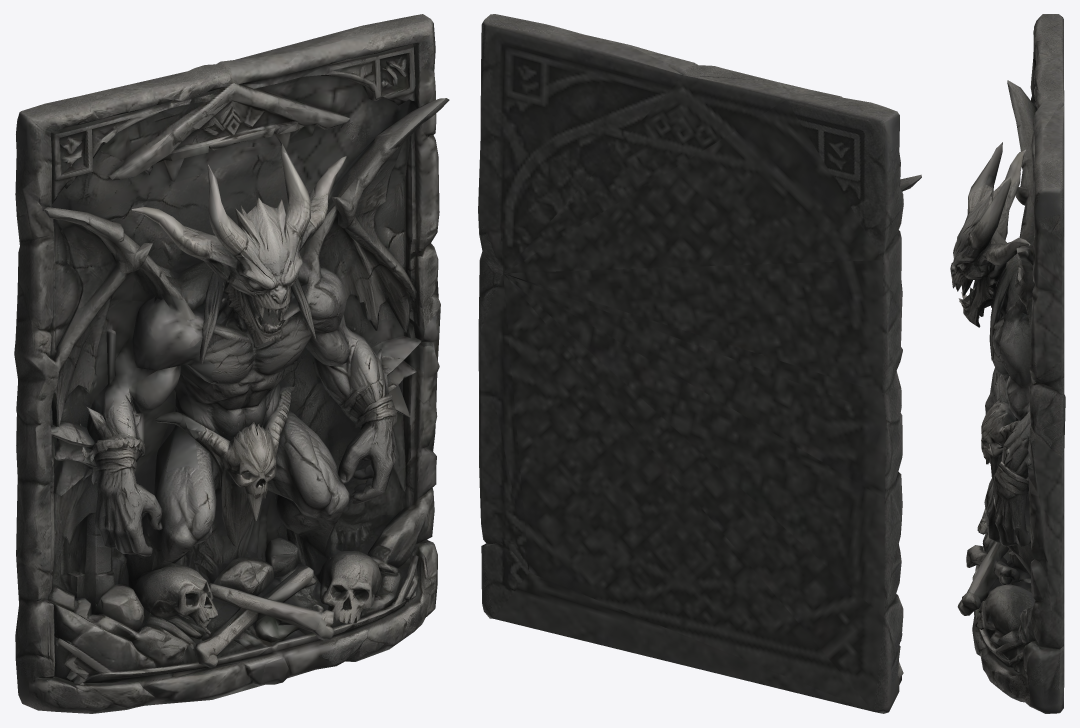
The model's file is obj_deco_demon_1.glb.
3 renders of one model, left to right at view 1: azimuth 30°, elevation 25°; view 2: azimuth 150°, elevation 25°; view 3: azimuth 270°, elevation 25°, orthographic. The views are drawn at different scales.
Parts seen in each view (by area): view 1: Mesh_0; view 2: Mesh_0; view 3: Mesh_0.
Part boxes in pixels (x1,y1,x2,y2): Mesh_0: [14, 14, 449, 713]; Mesh_0: [478, 14, 921, 713]; Mesh_0: [950, 14, 1065, 713].
Size of the model in its own units: 1.39 by 1.9 by 0.3765.
1 material, 1 textured.
